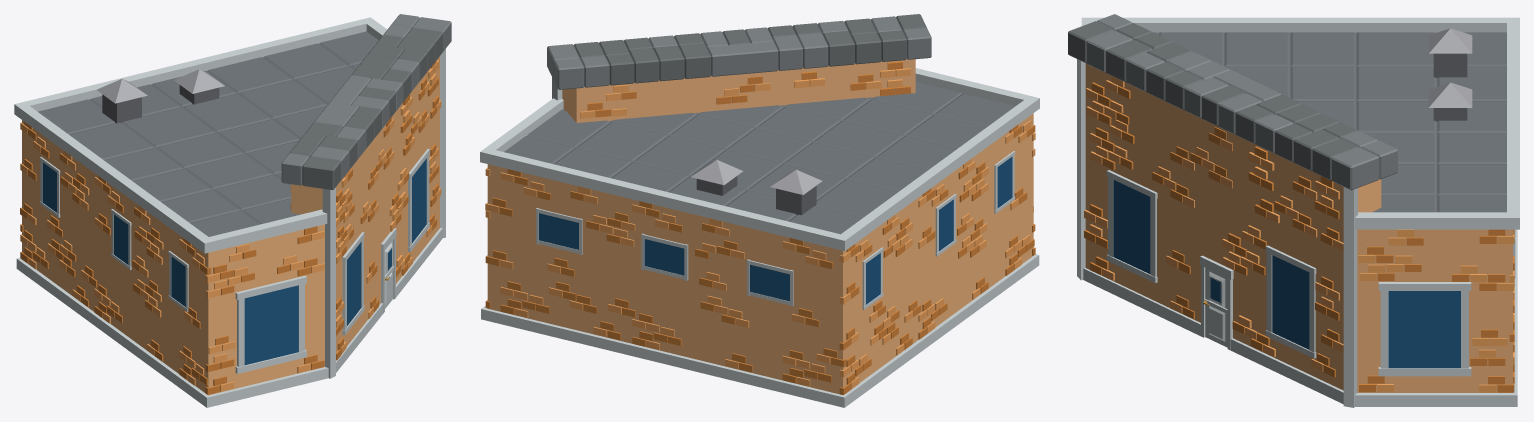
Rendered from SM_House_19.FBX.
The picture shows the model from 3 angles, left to right: view 1: azimuth 30°, elevation 25°; view 2: azimuth 150°, elevation 25°; view 3: azimuth 270°, elevation 25°; orthographic projection. The views are drawn at different scales.
Visible parts, largest first — view 1: SM_House_19; view 2: SM_House_19; view 3: SM_House_19.
Part boxes in pixels (x1,y1,x2,y2): SM_House_19: [14, 14, 451, 407]; SM_House_19: [480, 14, 1039, 407]; SM_House_19: [1068, 14, 1519, 407].
Size of what is drawn, in the model's own units: 1467 by 1371 by 819.
